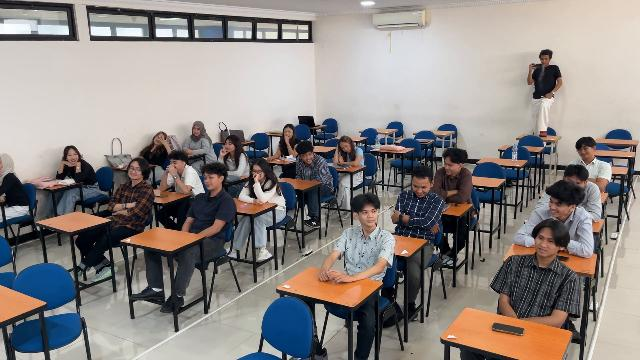senang: (534, 229, 557, 256), (411, 173, 430, 197), (547, 197, 568, 218), (360, 204, 378, 226), (443, 157, 459, 174), (128, 162, 143, 178), (204, 172, 219, 188), (578, 145, 594, 158), (66, 149, 78, 162), (300, 152, 314, 163), (340, 142, 351, 153), (225, 140, 235, 151), (283, 128, 292, 137), (193, 126, 201, 135)
